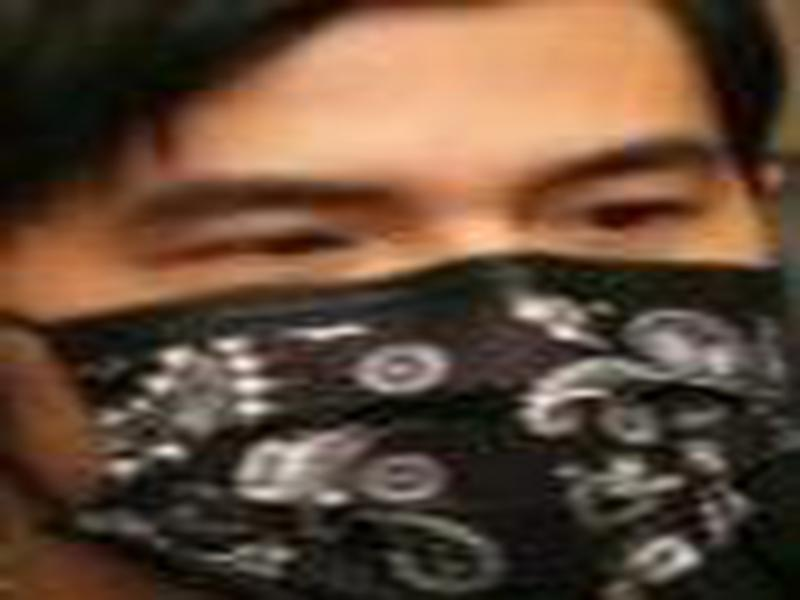with_mask: (1, 1, 786, 600)
